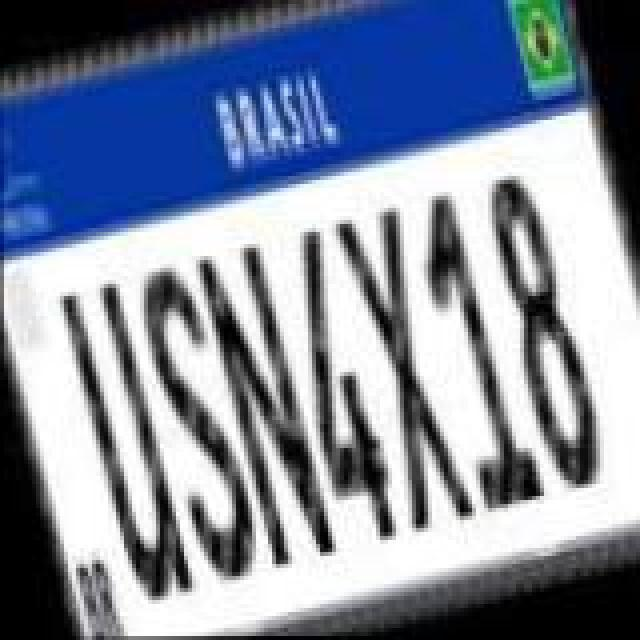1: (404, 184, 544, 520)
4: (266, 218, 406, 558)
8: (476, 164, 616, 504)
N: (196, 234, 340, 574)
S: (126, 254, 266, 594)
U: (54, 272, 194, 612)
X: (334, 204, 474, 544)
